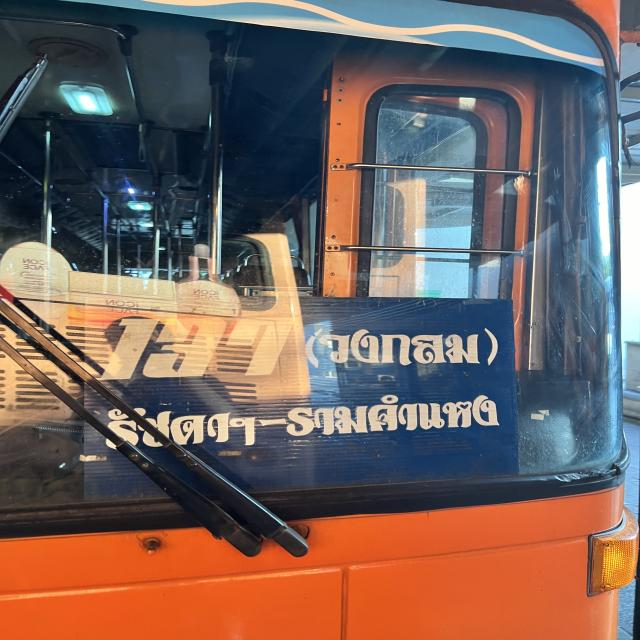BMTA-bus: (0, 0, 640, 640)
Destination-Sign-Normal: (90, 294, 522, 480)
